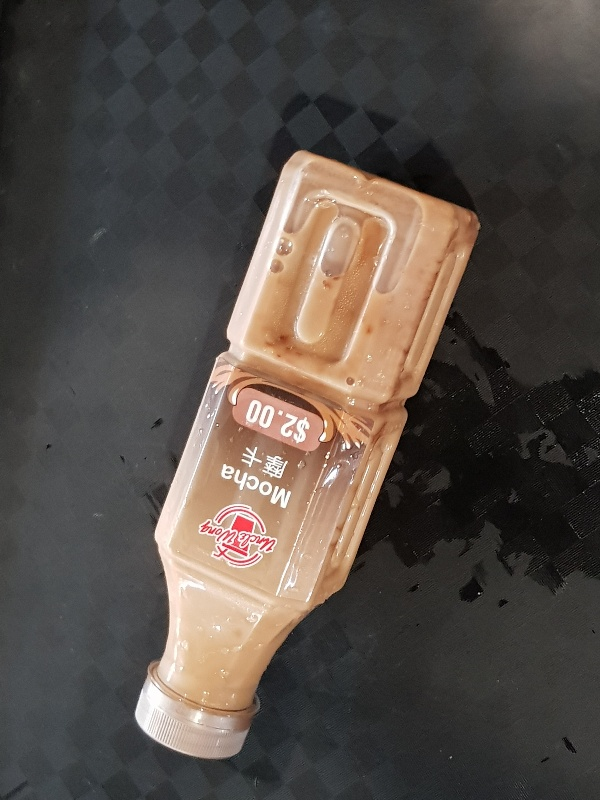Mocha: (131, 147, 480, 759)
